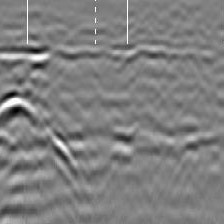Utility: (0, 89, 77, 194)
